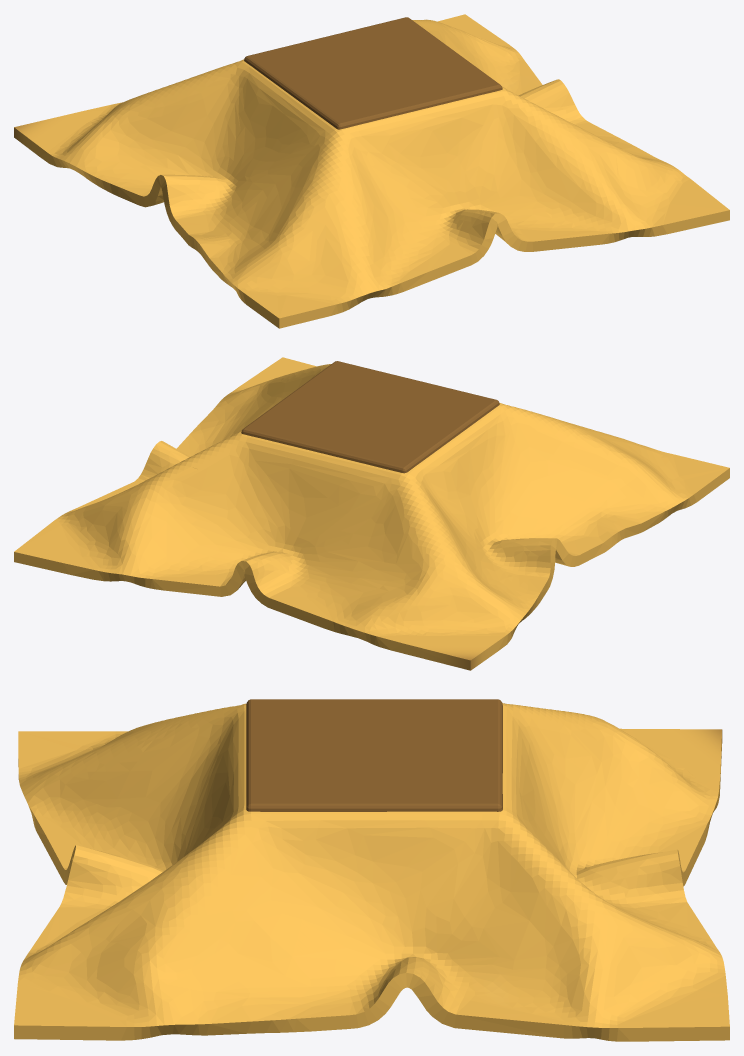
Rendered from kotatu.fbx.
3 views of the same model, one above another, from view 1: azimuth 30°, elevation 25°; view 2: azimuth 150°, elevation 25°; view 3: azimuth 270°, elevation 25° (orthographic). The views are drawn at different scales.
Visible parts, largest first — view 1: 平面.001, 平面.002; view 2: 平面.001, 平面.002; view 3: 平面.001, 平面.002.
Part boxes in pixels (left/top/right/bottom): 平面.001: left=14, top=14, right=729, bottom=328; 平面.002: left=244, top=17, right=502, bottom=129; 平面.001: left=14, top=357, right=729, bottom=670; 平面.002: left=241, top=361, right=499, bottom=473; 平面.001: left=14, top=703, right=729, bottom=1041; 平面.002: left=246, top=699, right=502, bottom=811.
Size of the model in its own units: 520 by 115 by 526.
